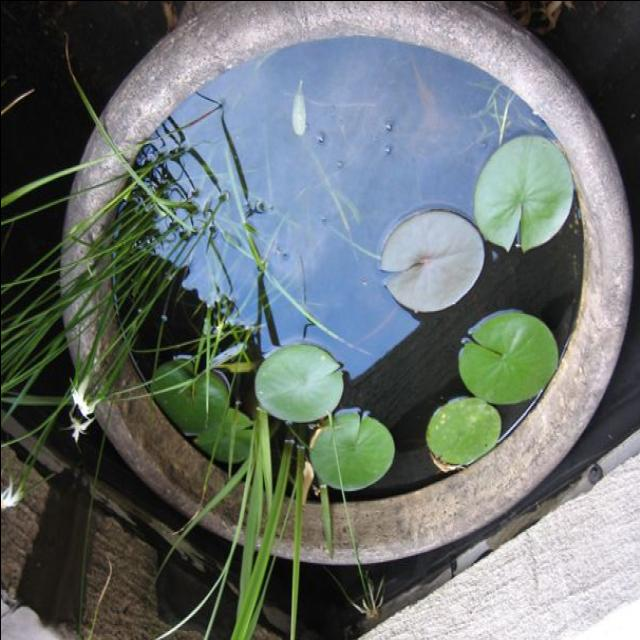Breeding Place: (71, 0, 628, 549)
